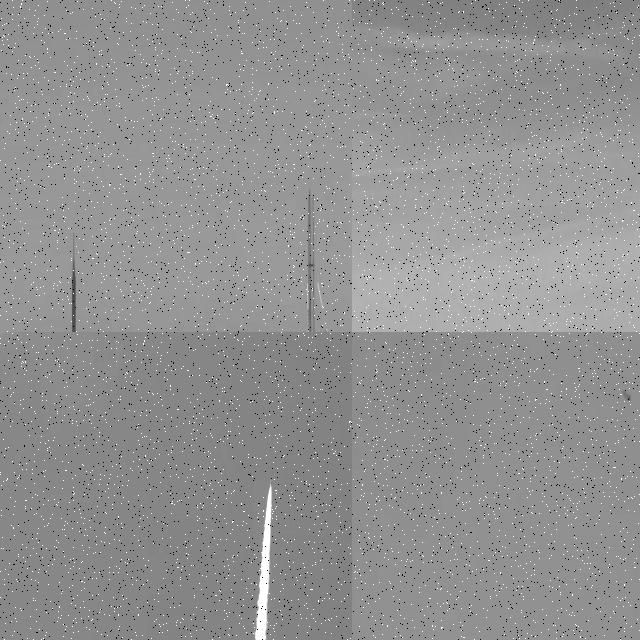Rocket: (69, 259, 78, 332), (621, 388, 633, 403), (270, 480, 272, 488)
